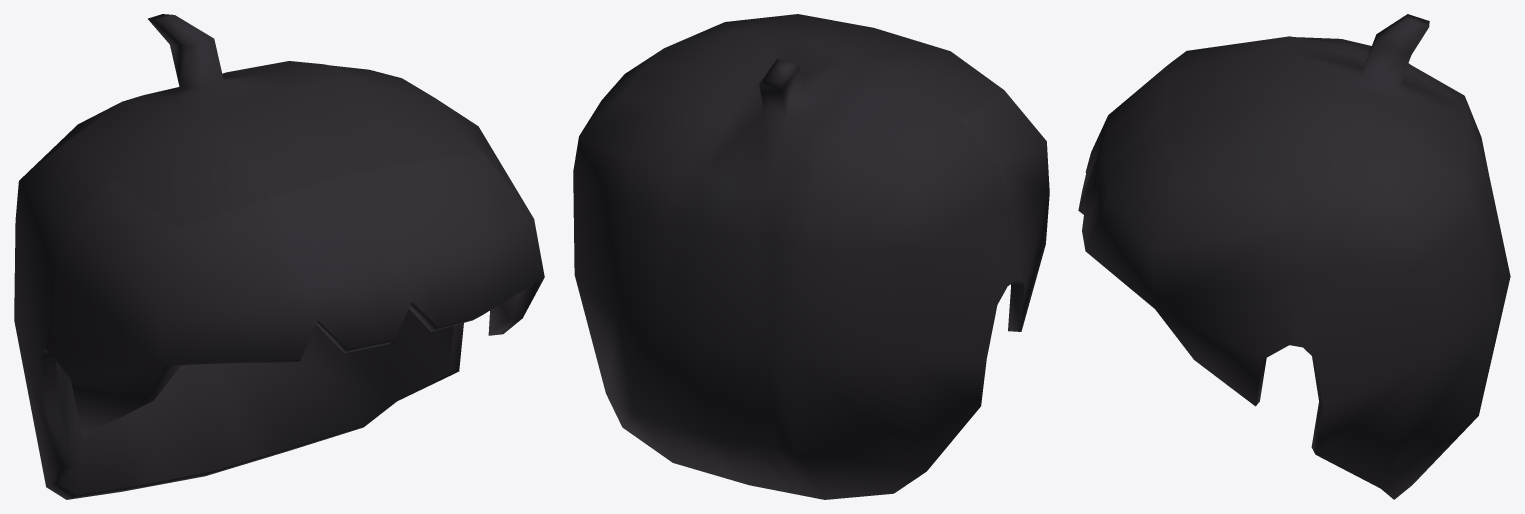
The model's file is character_mesh_hair_1.fbx.
The picture shows the model from 3 angles, left to right: view 1: azimuth 30°, elevation 25°; view 2: azimuth 150°, elevation 25°; view 3: azimuth 270°, elevation 25°; orthographic projection. The views are drawn at different scales.
Visible parts, largest first — view 1: Hair_01; view 2: Hair_01; view 3: Hair_01.
Part boxes in pixels (bbox=[...]): Hair_01: bbox=[14, 14, 544, 499]; Hair_01: bbox=[573, 14, 1049, 499]; Hair_01: bbox=[1078, 14, 1510, 499].
Bounding box in the file's own units: 126 × 126 × 118.
Materials: 1 (1 with a texture image).
